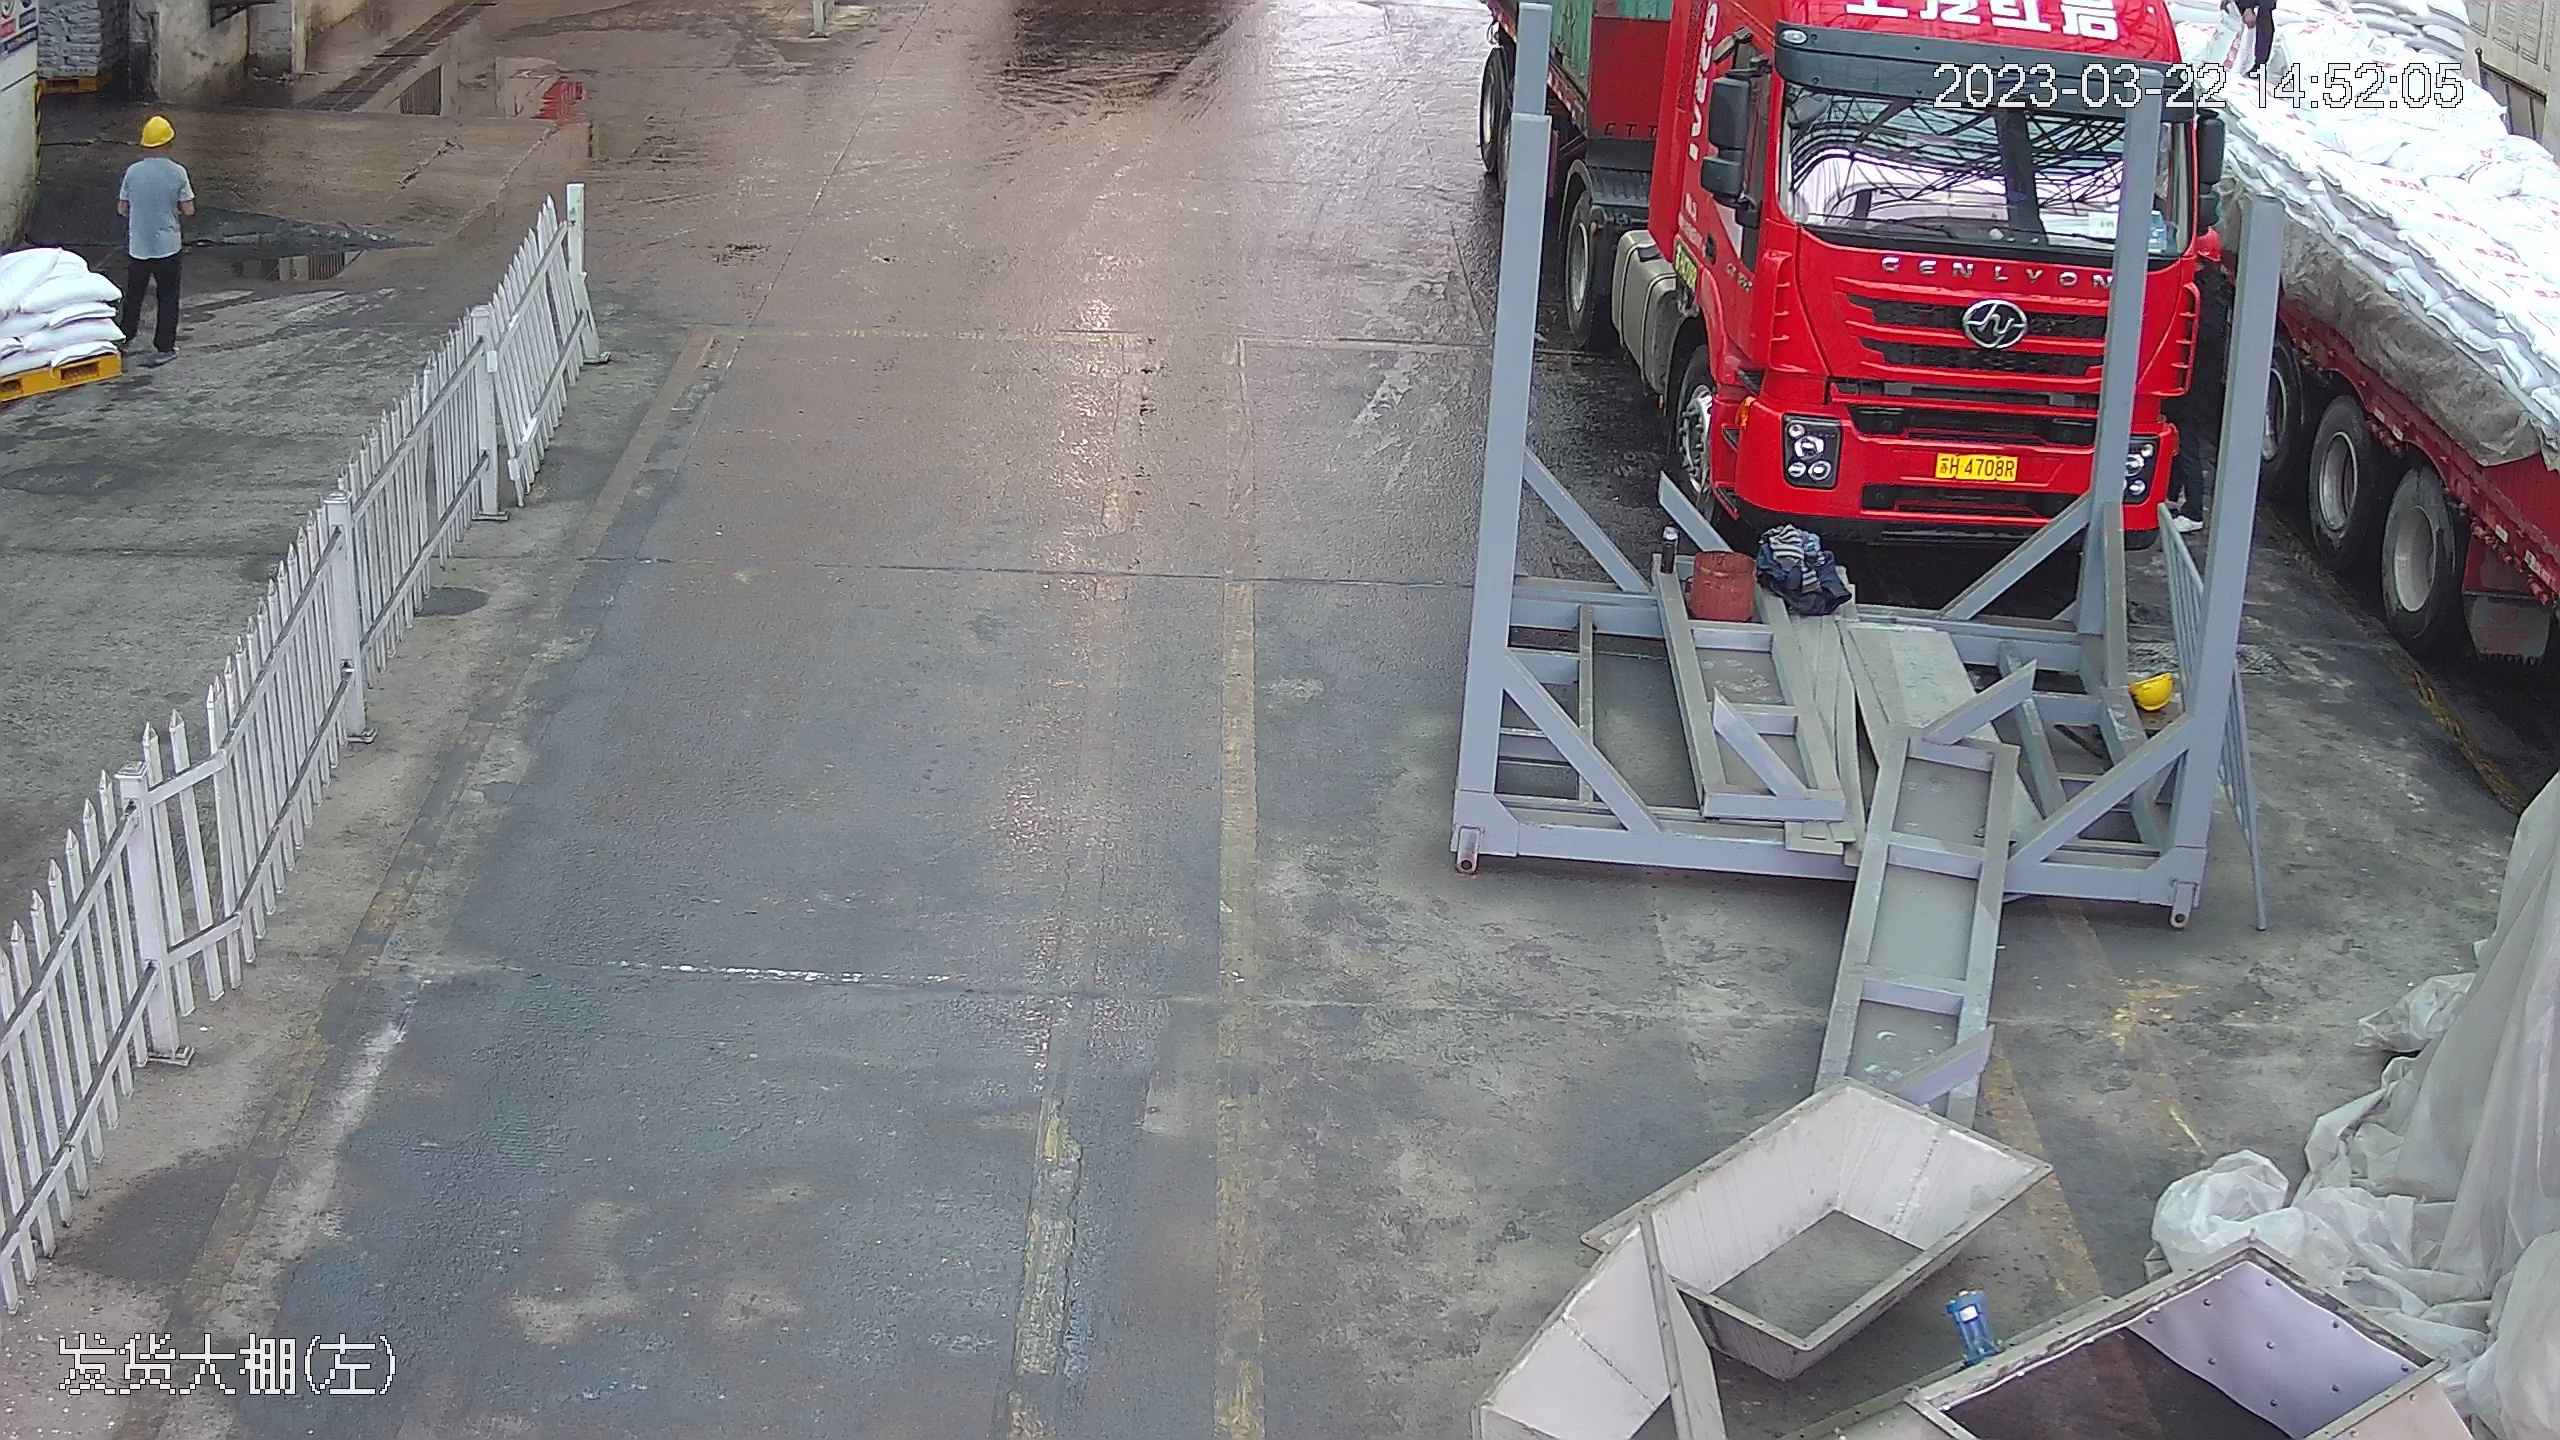head: (119, 110, 194, 197)
helmet: (135, 109, 178, 146)
people: (111, 108, 198, 363)
truck: (1499, 0, 2218, 602), (2209, 14, 2559, 743)
